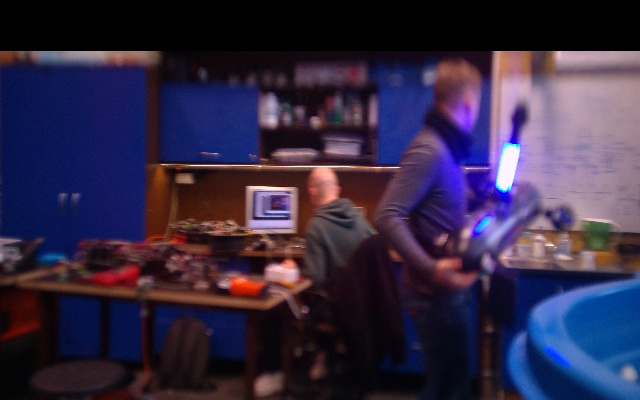blue: (495, 143, 520, 196)
